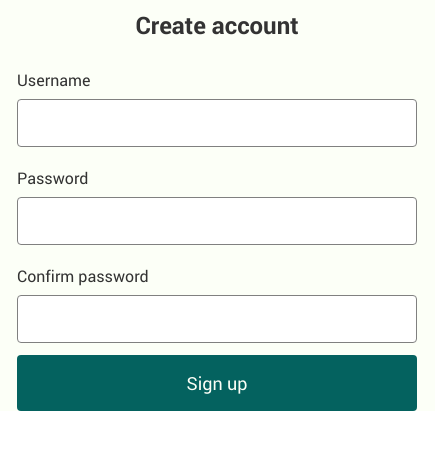
Scenario: Signup fails (server returns not success)
Type "user" into the field labelled "Username". click: [217, 123]
box: [17, 99, 417, 147]
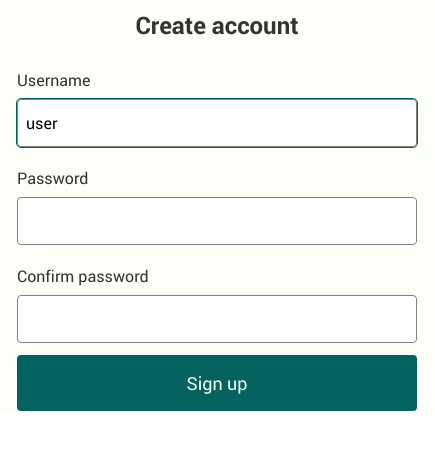
Type "Password123" into the password field labelled "Password". click: [217, 221]
box: [17, 197, 417, 245]
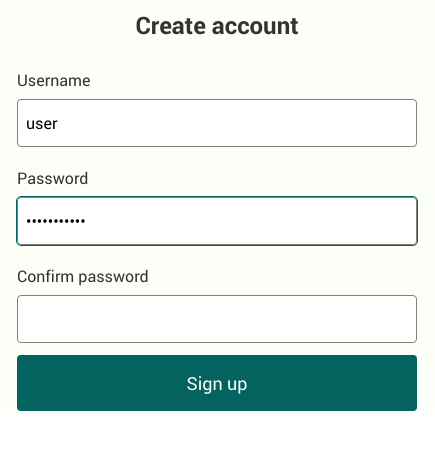
Type "Password123" into the password field labelled "Confirm password". click: [217, 319]
box: [17, 295, 417, 343]
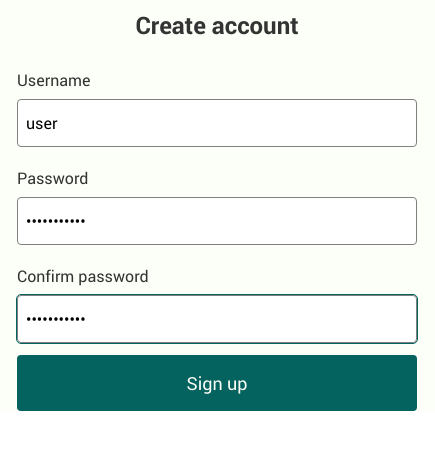
Click the button "Sign up". click: [217, 383]
box: [17, 355, 417, 411]
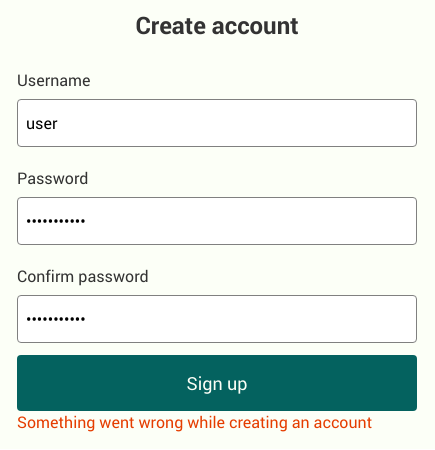
Check: the text "Something went wrong while creating an account" is shown, box [17, 411, 372, 433]
